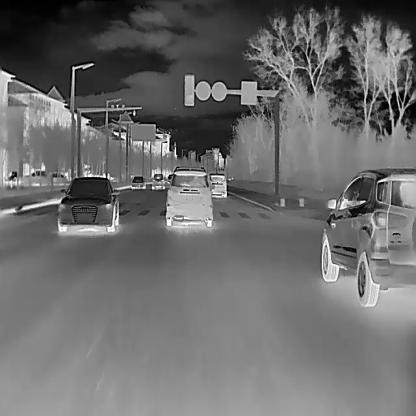car: (321, 166, 415, 307), (57, 176, 119, 232), (165, 165, 215, 225), (208, 172, 226, 197), (130, 174, 145, 188), (151, 172, 164, 188)
